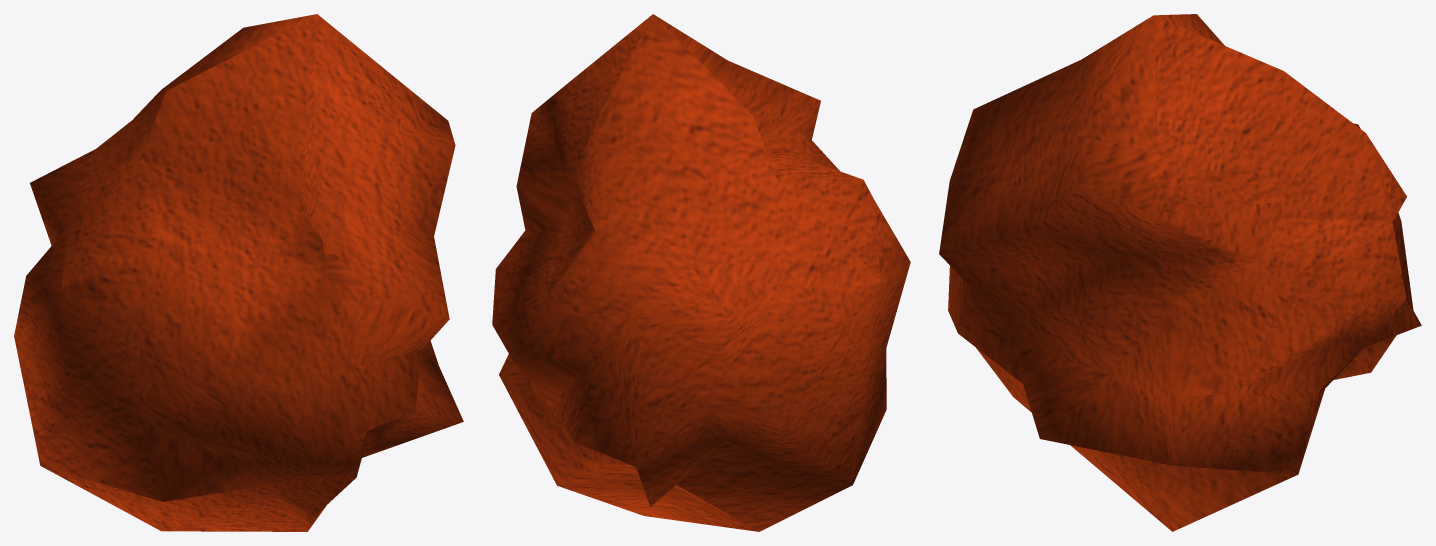
The model's file is meteorite-01.obj.
3 views of the same model, side by side, from view 1: azimuth 30°, elevation 25°; view 2: azimuth 150°, elevation 25°; view 3: azimuth 270°, elevation 25° (orthographic). The views are drawn at different scales.
Visible parts, largest first — view 1: Cube.003_Cube.084; view 2: Cube.003_Cube.084; view 3: Cube.003_Cube.084.
Part boxes in pixels (x1,y1,x2,y2): Cube.003_Cube.084: (14,14,463,531); Cube.003_Cube.084: (492,14,910,531); Cube.003_Cube.084: (939,14,1421,531).
Size of the model in its own units: 1.49 by 1.96 by 1.66.
1 material, 1 textured.
